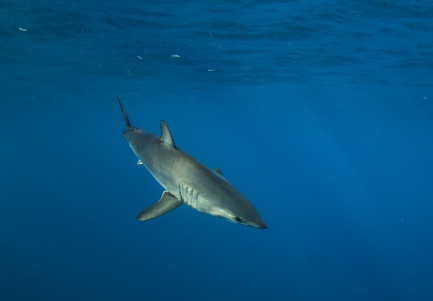Mako: (85, 87, 287, 241)
